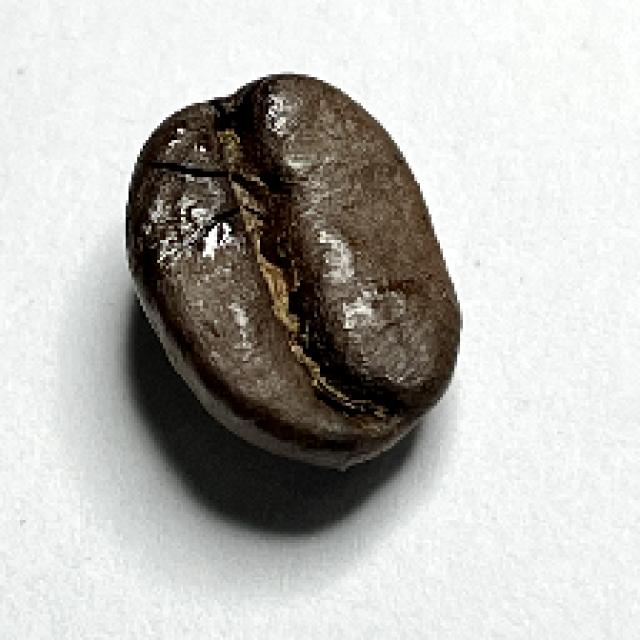bean: (118, 69, 464, 466)
